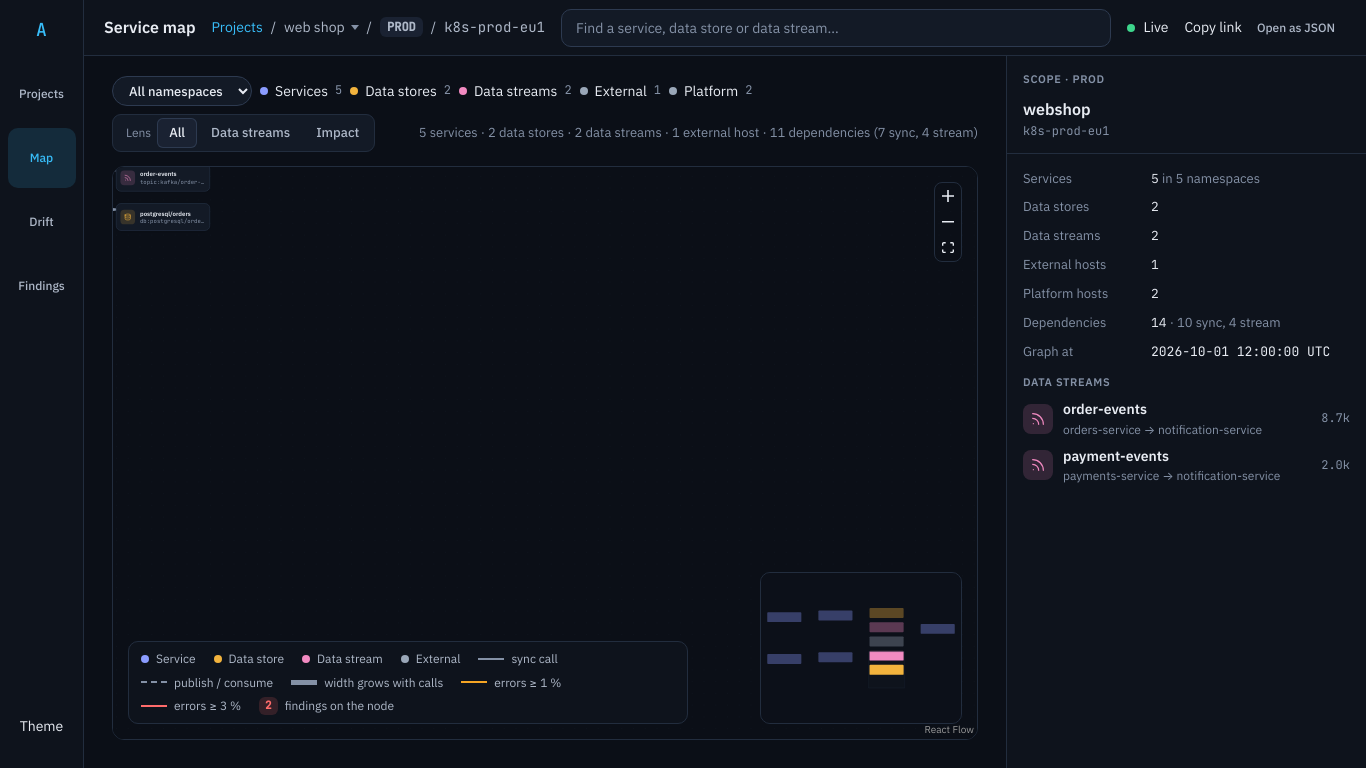
Scenario: ScopePage › keeps the platform hosts off the map and groups them behind the Platform chip
Expected: the text "flags.internal" is not shown
Expected: the button "External 1" is shown, [580,76,661,106]
Click the button "Platform 2": (711, 91) [669,76,752,106]
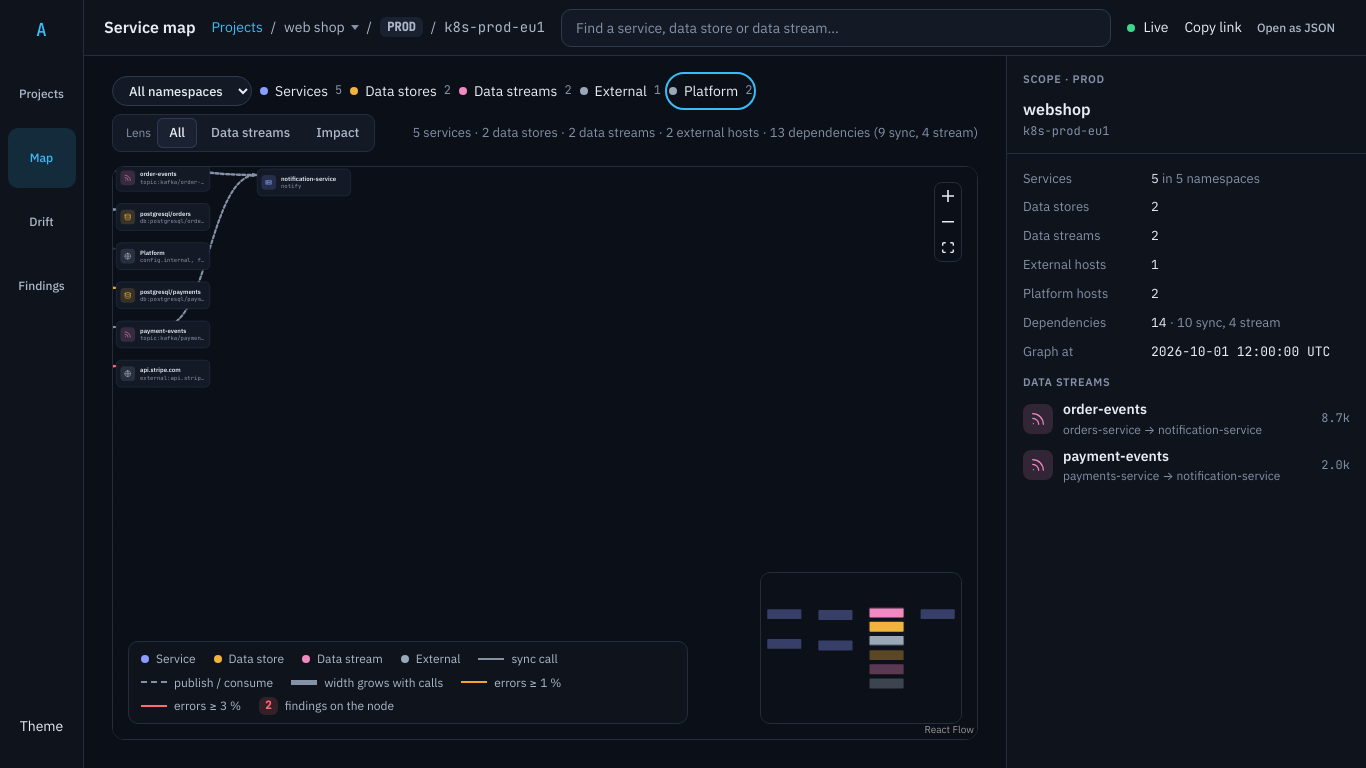
Now the button titled "platform" is shown
Now the text "config.internal, flags.internal" is shown, box [140,256,205,264]
Now the text "5 services · 2 data stores · 2 data streams · 2 external hosts · 13 dependencies (9 sync, 4 stream)" is shown, box [412,124,978,141]
Click the button titled "platform": (163, 256) [116,242,210,270]
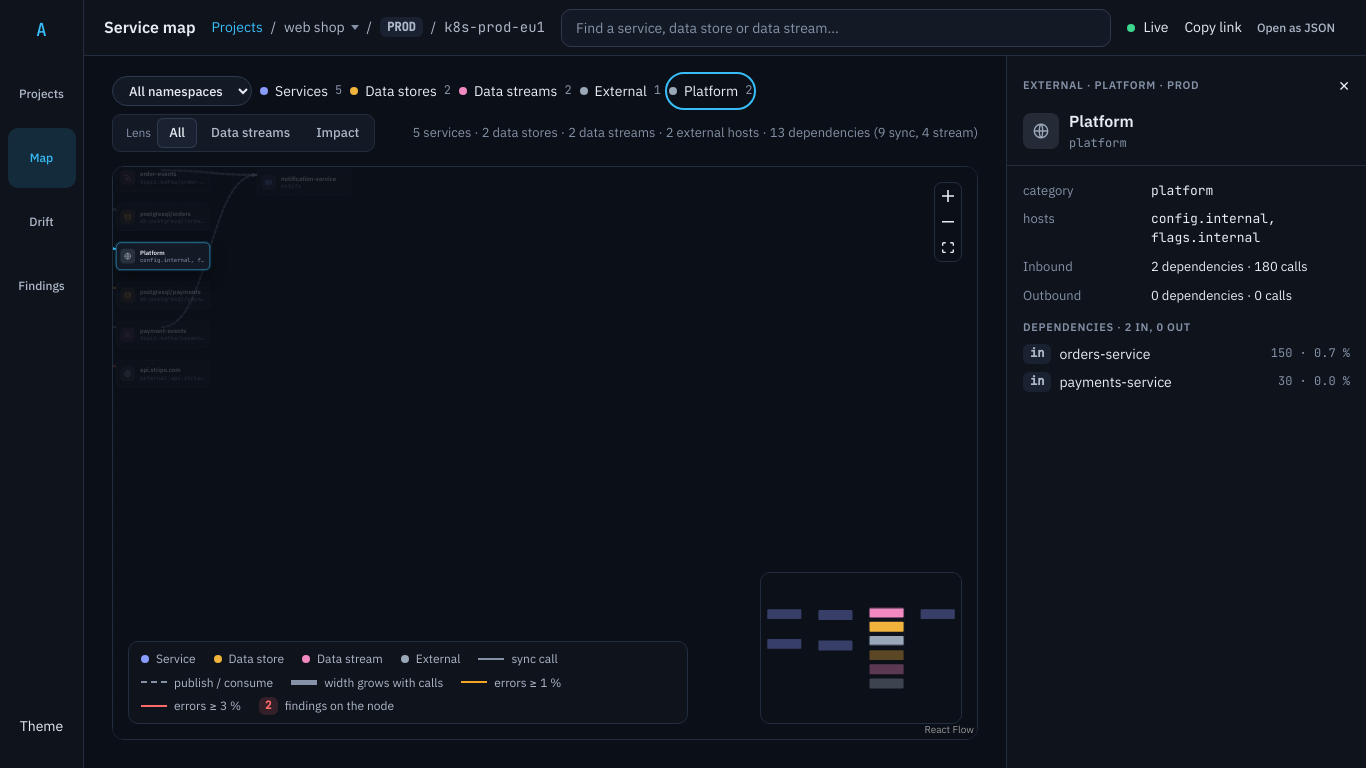
Now the text "External · platform · PROD" is shown, box [1023,78,1199,94]
Now the text "config.internal, flags.internal" below "category" is shown, box [1151,210,1276,246]
